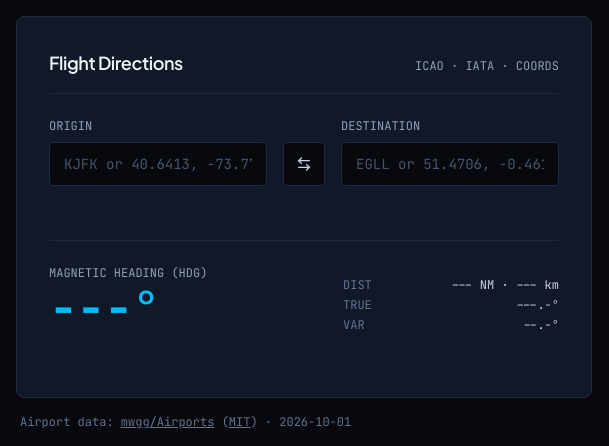
it: App › shows the airport found in the airport database
Type "kjfk" into the field labelled "ORIGIN" at x=158, y=164, box [49,142,267,186]
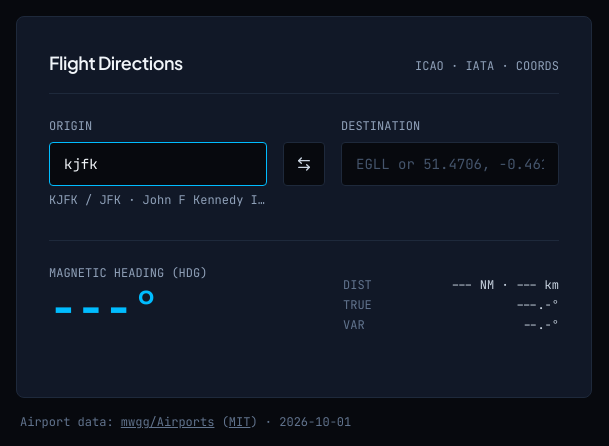
Check: the text "KJFK / JFK · John F Kennedy International Airport" is shown, box [49,192,267,208]
